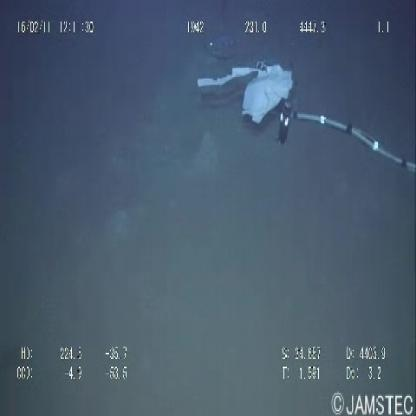Rác: (196, 56, 295, 132)
